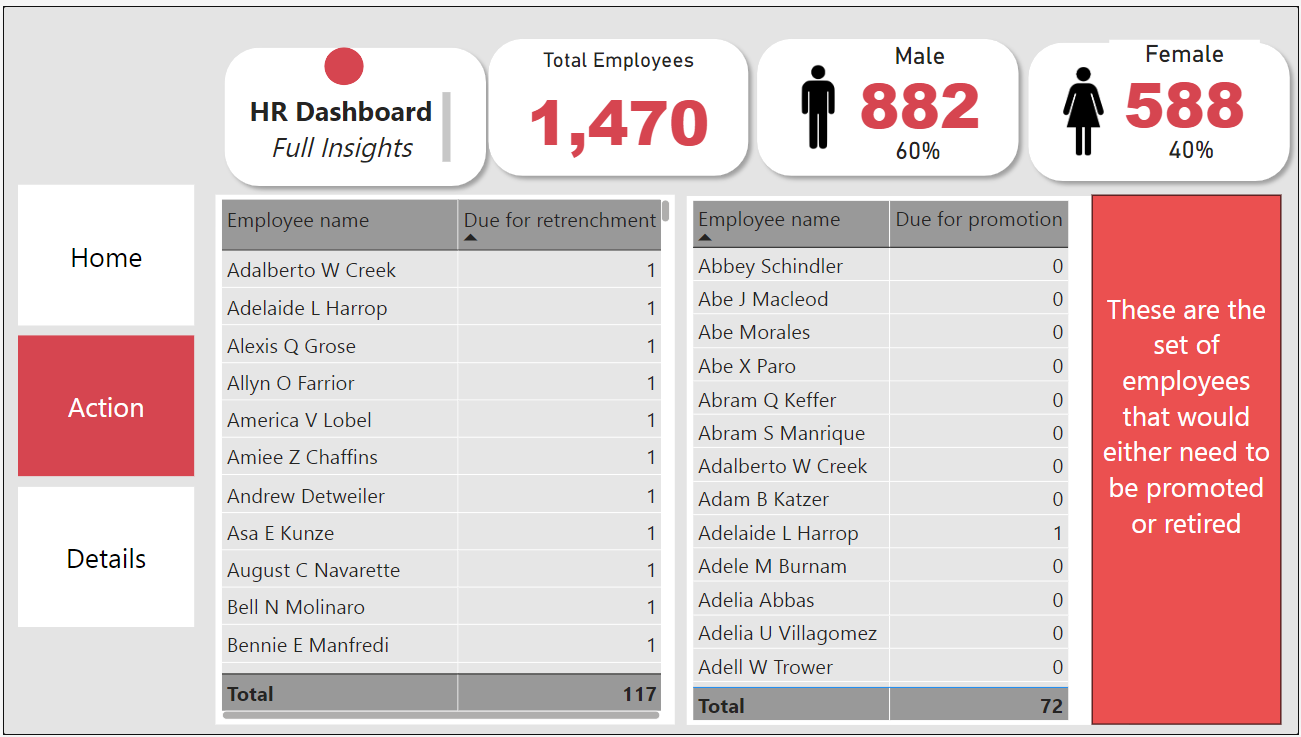

The page's visual inventory and layout, read from the dashboard file:
{"tool":"powerbi","page":{"name":"Action","canvas":[1280,720],"ordinal":1},"visuals":[{"type":"shape","box":[209.6,31.7,276.2,154.7],"z":1000},{"type":"textbox","box":[228.4,80.7,218.5,79.4],"z":2000},{"type":"shape","box":[470,23.1,274.7,153.3],"z":3000},{"type":"card","title":"Total Employees","fields":{"Values":["All Measures.Total Emp"]},"box":[494.5,40.5,225.6,118.6],"z":4000},{"type":"shape","box":[316.7,40.5,39,37.6],"z":5000},{"type":"shape","box":[736,23.1,276.2,153.3],"z":6000},{"type":"card","title":"Male","fields":{"Values":["All Measures.Male"]},"box":[830,34.7,151.8,92.5],"z":7000},{"type":"shape","box":[1003.5,27.5,276.2,154.7],"z":8000},{"type":"card","fields":{"Values":["All Measures.Male %"]},"box":[866.2,122.9,73.7,36.2],"z":9000},{"type":"image","box":[1040.2,55.9,53.4,96.8],"z":10000},{"type":"card","title":"Female","fields":{"Values":["All Measures.Female"]},"box":[1093.2,33.3,148.9,94],"z":11000},{"type":"card","fields":{"Values":["All Measures.Female %"]},"box":[1129.3,121.5,88.2,40.5],"z":12000},{"type":"image","box":[769.3,33.3,72.3,133],"z":13000},{"type":"tableEx","fields":{"Values":["HR employee data.Employee name","All Measures.Due for retrenchment"]},"box":[209.9,187,453.6,523.6],"z":19000},{"type":"tableEx","fields":{"Values":["HR employee data.Employee name","All Measures.Due for promotion"]},"box":[675.3,187.4,436.9,522.6],"z":20000},{"type":"textbox","box":[1074.9,185.9,187.1,523.4],"z":21000},{"type":"pageNavigator","box":[14.7,176.1,174.9,439],"z":21001}]}

Visuals, with their boxes in screenshot pixels (x1, y1, x2, y2), scaled from the page's 1280x720 canvas onto the 1301x737 screenshot:
shape: bbox=(213, 32, 494, 191)
textbox: bbox=(232, 83, 454, 164)
shape: bbox=(478, 24, 757, 181)
"Total Employees" card: bbox=(503, 41, 732, 163)
shape: bbox=(322, 41, 362, 80)
shape: bbox=(748, 24, 1029, 181)
"Male" card: bbox=(844, 36, 998, 130)
shape: bbox=(1020, 28, 1300, 187)
card - All Measures.Male %: bbox=(880, 126, 955, 163)
image: bbox=(1057, 57, 1112, 156)
"Female" card: bbox=(1111, 34, 1262, 130)
card - All Measures.Female %: bbox=(1148, 124, 1237, 166)
image: bbox=(782, 34, 855, 170)
tableEx - HR employee data.Employee name x All Measures.Due for retrenchment: bbox=(213, 191, 674, 727)
tableEx - HR employee data.Employee name x All Measures.Due for promotion: bbox=(686, 192, 1130, 727)
textbox: bbox=(1093, 190, 1283, 726)
pageNavigator: bbox=(15, 180, 193, 630)
